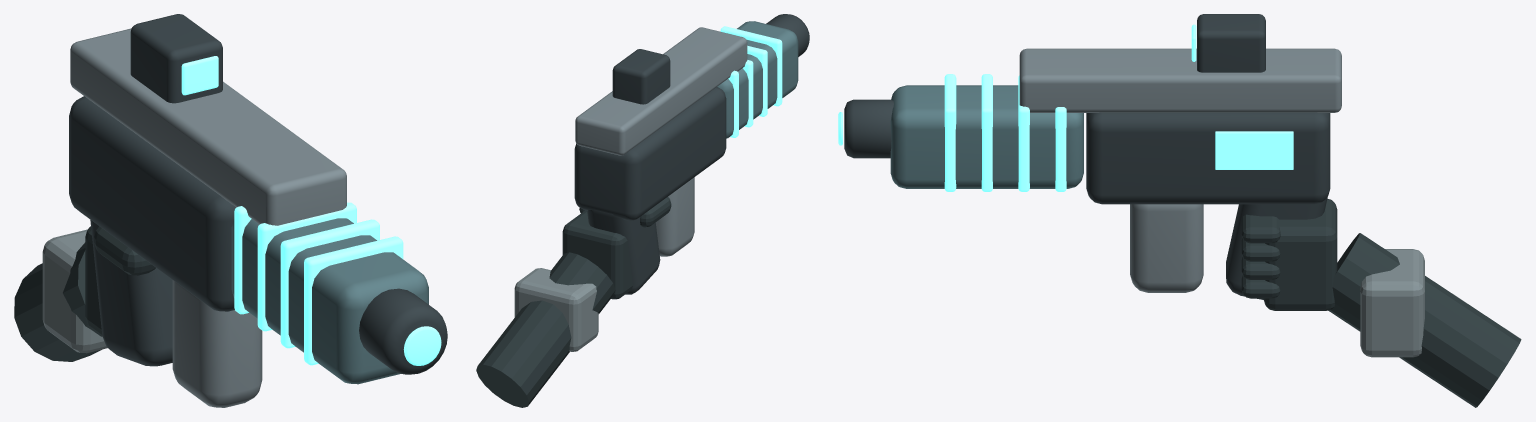
Rendered from pulse-carbine.glb.
3 views of the same model, side by side, from view 1: azimuth 30°, elevation 25°; view 2: azimuth 150°, elevation 25°; view 3: azimuth 270°, elevation 25° (orthographic). The views are drawn at different scales.
Visible parts, largest first — view 1: Upper rail, Receiver, Coil jacket, Magazine, Grip, Holographic sight, Emitter barrel, Sleeve, Armored cuff, Coil winding.002, Coil winding.003, Coil winding.001 (+5 smaller); view 2: Receiver, Upper rail, Sleeve, Coil jacket, Armored cuff, Gloved palm, Holographic sight, Grip, Magazine, Coil winding.003, Emitter barrel, Coil winding.002 (+3 smaller); view 3: Receiver, Upper rail, Coil jacket, Sleeve, Magazine, Armored cuff, Gloved palm, Holographic sight, Status screen, Emitter barrel, Grip, Coil winding.003 (+7 smaller).
Part boxes in pixels (x1,y1,x2,y2): Upper rail: [70, 28, 346, 225]; Receiver: [69, 96, 235, 311]; Coil jacket: [231, 218, 428, 384]; Magazine: [172, 280, 262, 407]; Grip: [90, 220, 172, 366]; Holographic sight: [130, 14, 222, 103]; Emitter barrel: [359, 288, 447, 374]; Sleeve: [14, 242, 102, 361]; Armored cuff: [42, 229, 107, 353]; Coil winding.002: [280, 219, 379, 348]; Coil winding.003: [304, 236, 403, 365]; Coil winding.001: [257, 202, 356, 331]; Receiver: [574, 87, 726, 220]; Upper rail: [575, 27, 747, 155]; Sleeve: [476, 252, 615, 407]; Coil jacket: [717, 21, 798, 138]; Armored cuff: [514, 268, 598, 351]; Gloved palm: [562, 210, 632, 299]; Holographic sight: [612, 49, 670, 104]; Grip: [587, 209, 660, 294]; Magazine: [655, 177, 694, 256]; Coil winding.003: [720, 26, 782, 106]; Emitter barrel: [766, 14, 809, 56]; Coil winding.002: [747, 45, 767, 116]; Receiver: [1086, 112, 1330, 204]; Upper rail: [1019, 48, 1341, 112]; Coil jacket: [890, 85, 1083, 188]; Sleeve: [1328, 233, 1521, 407]; Magazine: [1130, 204, 1203, 292]; Armored cuff: [1360, 249, 1424, 357]; Gloved palm: [1263, 198, 1337, 310]; Holographic sight: [1197, 14, 1265, 72]; Status screen: [1215, 131, 1293, 169]; Emitter barrel: [844, 99, 893, 158]; Grip: [1226, 197, 1327, 299]; Coil winding.003: [944, 74, 956, 191].
Bounding box in the file's own units: 0.303 × 0.8667 × 1.48.
